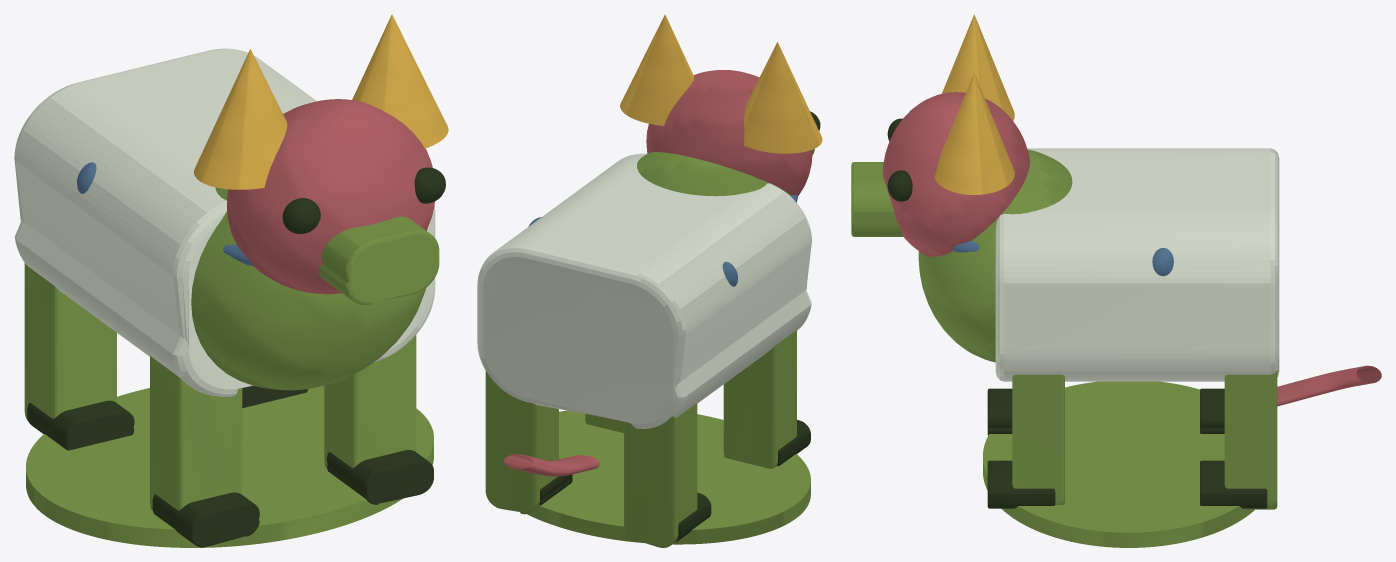
The model's file is 0843_两栖动物图鉴_大树蛙.glb.
3 views of the same model, side by side, from view 1: azimuth 30°, elevation 25°; view 2: azimuth 150°, elevation 25°; view 3: azimuth 270°, elevation 25° (orthographic). The views are drawn at different scales.
Visible parts, largest first — view 1: card_0843; view 2: card_0843; view 3: card_0843.
Part boxes in pixels (x1=…): card_0843: x1=14, y1=14, x2=448, y2=547; card_0843: x1=477, y1=14, x2=822, y2=547; card_0843: x1=851, y1=14, x2=1381, y2=547.
Size of the model in its own units: 0.7652 by 1 by 1.12.
